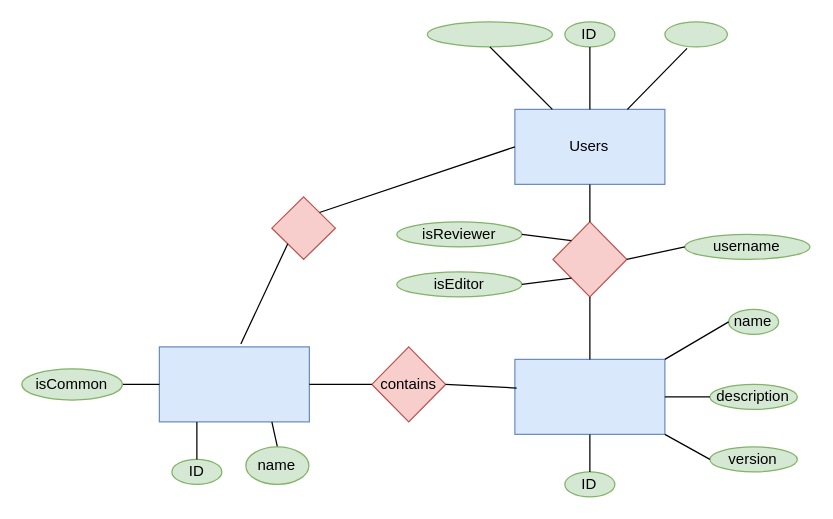
The diagram is 833 pixels wide and 519 high, and some of its shapes have lost their labels. The shapes that lost their labels are listed below. From the top down, each one's box as (x1, y1, x2, y2) in pixels, then its label:
(426, 21, 552, 47): gitlabUsername
(664, 21, 727, 47): gitlabID
(271, 196, 335, 259): partOf
(552, 221, 627, 297): has access
(158, 346, 309, 422): Workspace
(514, 358, 665, 434): Project
